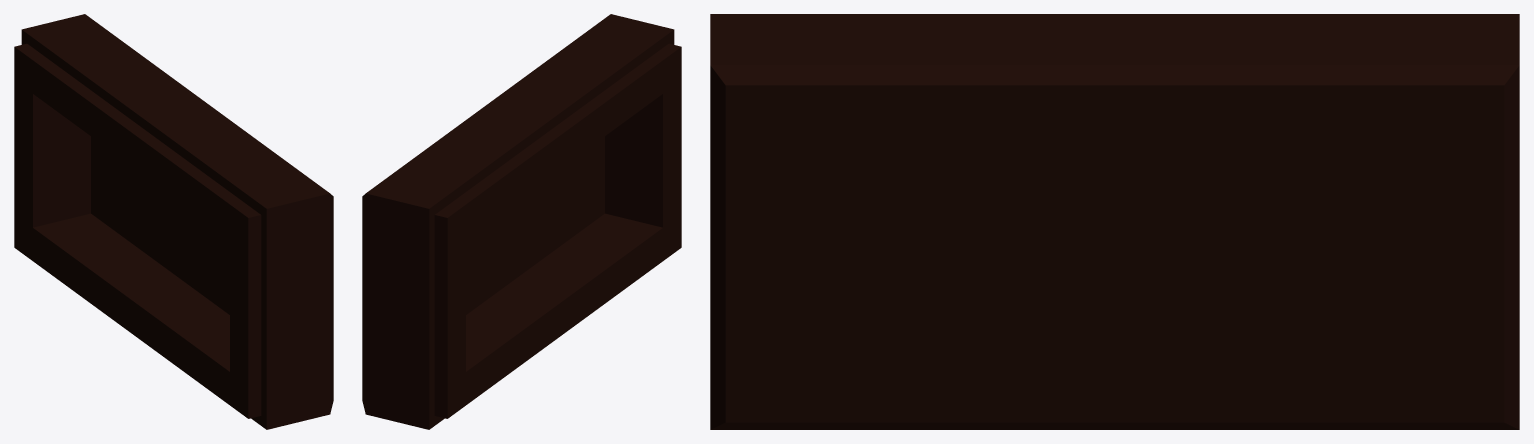
File: slab.obj
3 renders of one model, left to right at view 1: azimuth 30°, elevation 25°; view 2: azimuth 150°, elevation 25°; view 3: azimuth 270°, elevation 25°, orthographic. The views are drawn at different scales.
Visible parts, largest first — view 1: Part.4; view 2: Part.4; view 3: Part.4.
Part boxes in pixels (left/top/right/bottom): Part.4: left=14, top=14, right=333, bottom=429; Part.4: left=362, top=14, right=681, bottom=429; Part.4: left=710, top=14, right=1519, bottom=429.
Bounding box in the file's own units: 3.16 × 7.92 × 15.92.
